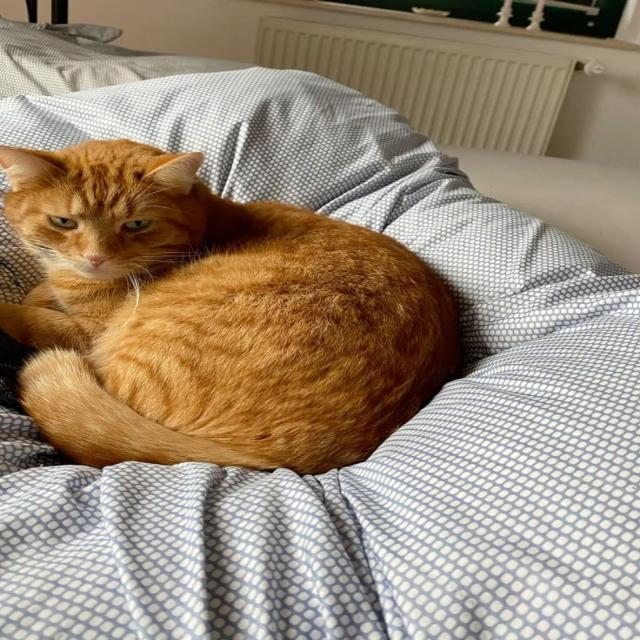sarman: (0, 70, 583, 550)
